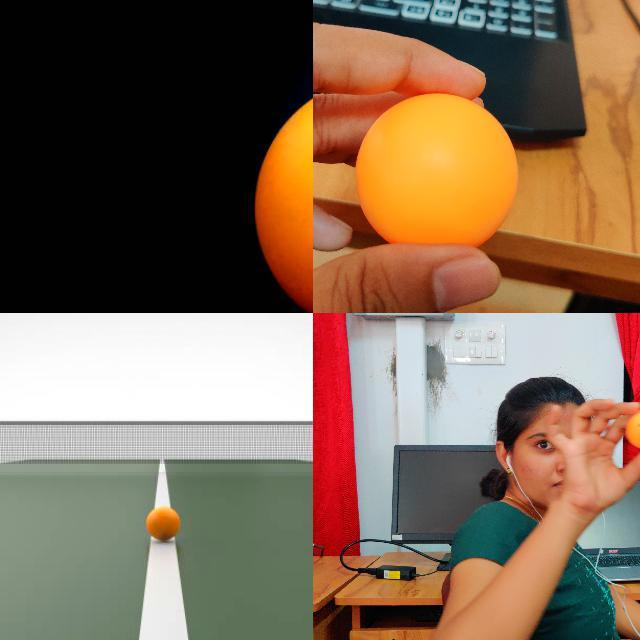ping-pong-ball: (353, 92, 519, 252), (146, 508, 180, 540), (625, 411, 639, 449)
